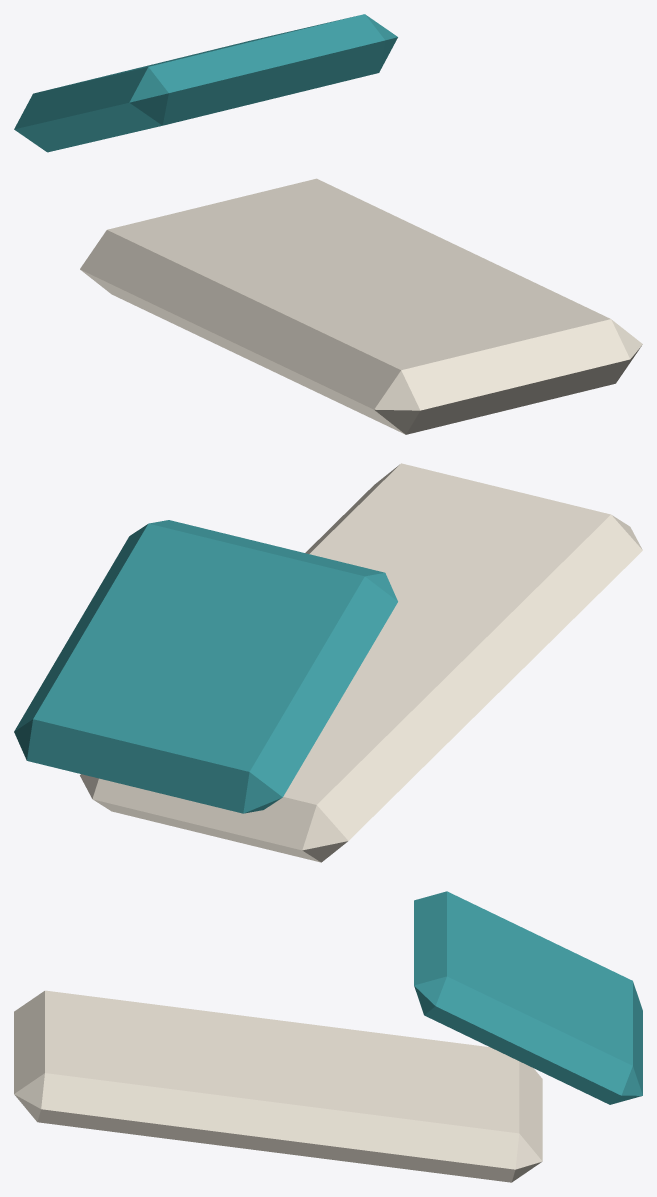
3 views of the same model, one above another, from view 1: azimuth 30°, elevation 25°; view 2: azimuth 150°, elevation 25°; view 3: azimuth 270°, elevation 25° (orthographic). The views are drawn at different scales.
Parts seen in each view (by area): view 1: LOD2_SUN_LOUNGER_Bed, LOD2_SUN_LOUNGER_Back; view 2: LOD2_SUN_LOUNGER_Back, LOD2_SUN_LOUNGER_Bed; view 3: LOD2_SUN_LOUNGER_Bed, LOD2_SUN_LOUNGER_Back.
Part boxes in pixels (left/top/right/bottom): LOD2_SUN_LOUNGER_Bed: left=80, top=178, right=642, bottom=434; LOD2_SUN_LOUNGER_Back: left=14, top=14, right=397, bottom=152; LOD2_SUN_LOUNGER_Back: left=14, top=520, right=397, bottom=813; LOD2_SUN_LOUNGER_Bed: left=80, top=463, right=642, bottom=862; LOD2_SUN_LOUNGER_Bed: left=14, top=990, right=542, bottom=1182; LOD2_SUN_LOUNGER_Back: left=414, top=891, right=642, bottom=1104.
Size of what is drawn, in the model's own units: 0.82 by 0.751 by 2.06.
